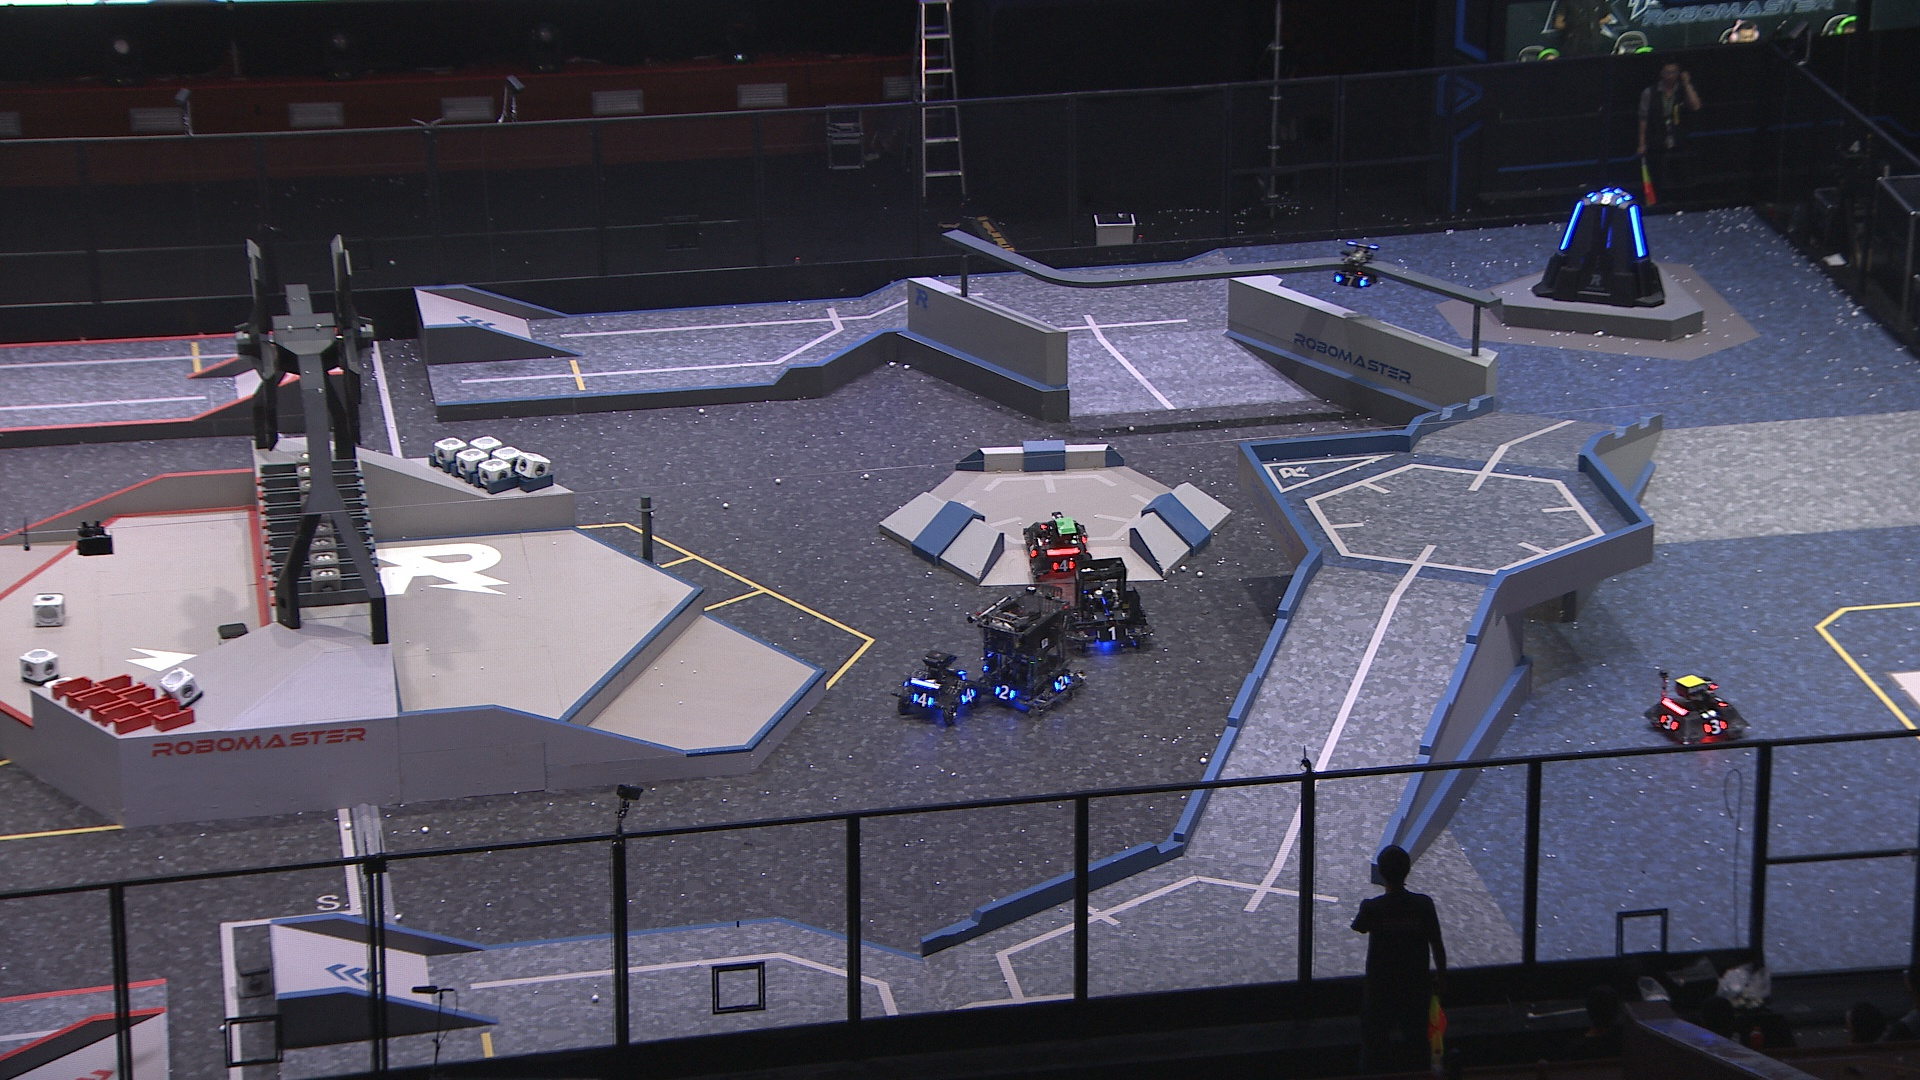armor: (1557, 200, 1582, 253), (1629, 204, 1647, 261), (1588, 191, 1626, 210), (1095, 626, 1130, 645), (1092, 607, 1127, 624), (1333, 273, 1367, 289), (1704, 717, 1727, 737), (1659, 712, 1680, 733), (993, 684, 1017, 703), (960, 688, 978, 708), (913, 692, 935, 708), (1050, 560, 1077, 572), (1054, 674, 1069, 694), (1026, 541, 1040, 560)
base: (1531, 189, 1669, 310)
car: (968, 589, 1087, 721), (1644, 669, 1751, 752), (1067, 556, 1156, 654), (891, 647, 981, 727), (1022, 510, 1095, 583)
watcher: (1333, 243, 1381, 291)
